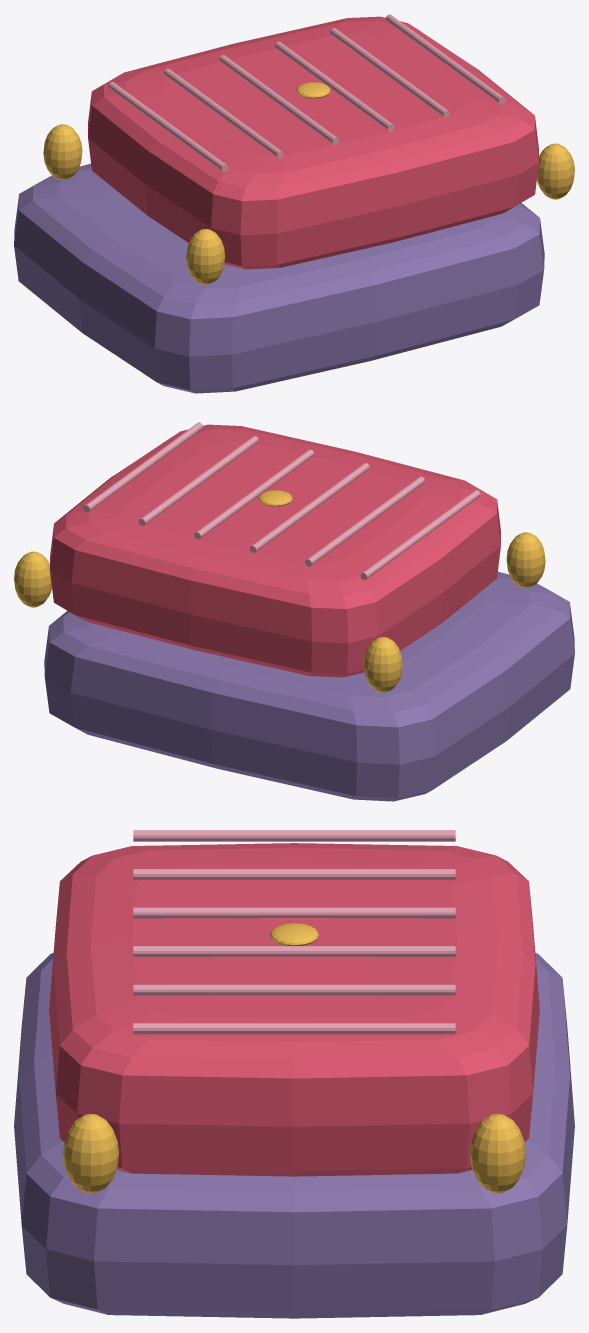
Rendered from floor-cushions.glb.
3 views of the same model, one above another, from view 1: azimuth 30°, elevation 25°; view 2: azimuth 150°, elevation 25°; view 3: azimuth 270°, elevation 25° (orthographic). The views are drawn at different scales.
Visible parts, largest first — view 1: floor-cushions; view 2: floor-cushions; view 3: floor-cushions.
Part boxes in pixels (box(x1,y1,x2,y2)): floor-cushions: box(14, 14, 574, 393); floor-cushions: box(14, 422, 574, 801); floor-cushions: box(14, 830, 574, 1318).
Size of the model in its own units: 0.99 by 0.467 by 0.8.
